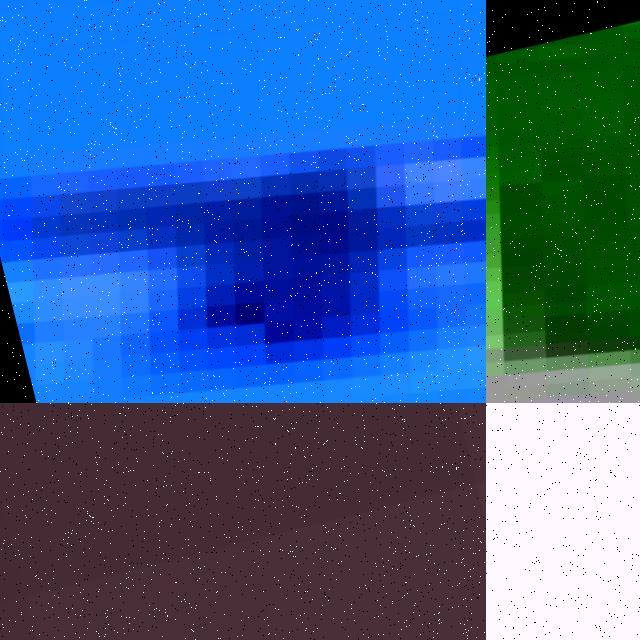drone: (0, 0, 486, 403), (486, 0, 640, 403)
